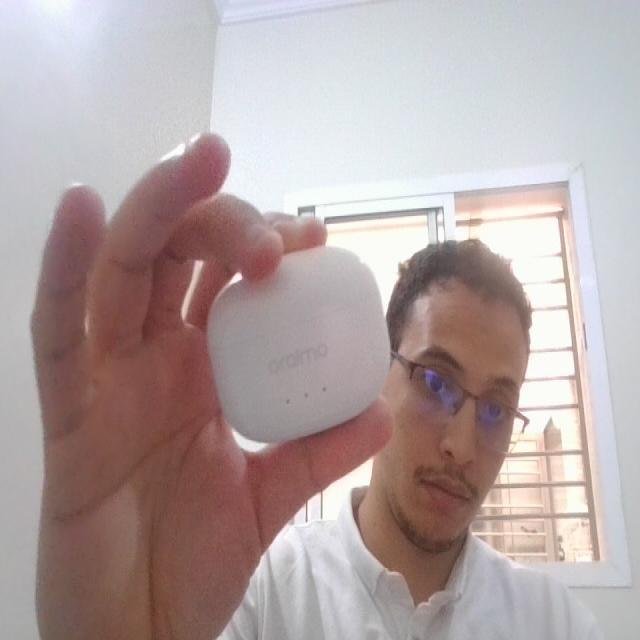airpods: (202, 250, 395, 450)
